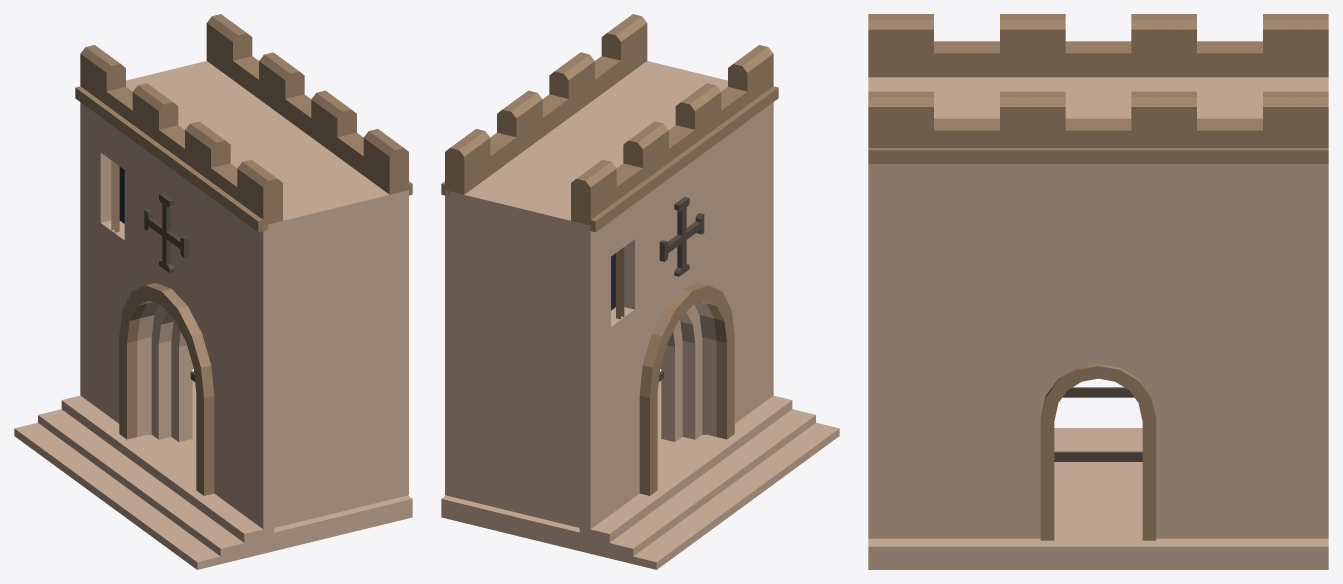
Rendered from fortification_gate.glb.
3 renders of one model, left to right at view 1: azimuth 30°, elevation 25°; view 2: azimuth 150°, elevation 25°; view 3: azimuth 270°, elevation 25°, orthographic. The views are drawn at different scales.
Visible parts, largest first — view 1: fortification_gate; view 2: fortification_gate; view 3: fortification_gate.
Part boxes in pixels (bbox=[...]): fortification_gate: bbox=[14, 14, 412, 569]; fortification_gate: bbox=[441, 14, 839, 569]; fortification_gate: bbox=[868, 14, 1328, 569].
Bounding box in the file's own units: 7.39 × 12.18 × 10.87.
